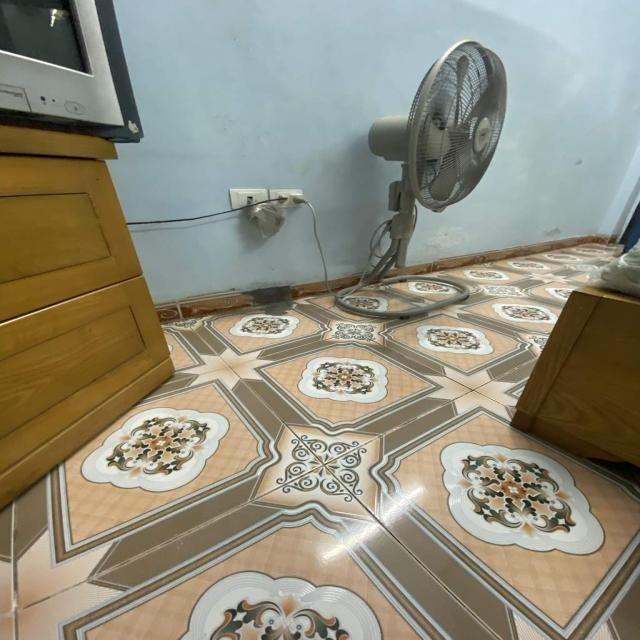outlet: (228, 189, 268, 210), (269, 189, 304, 208)
